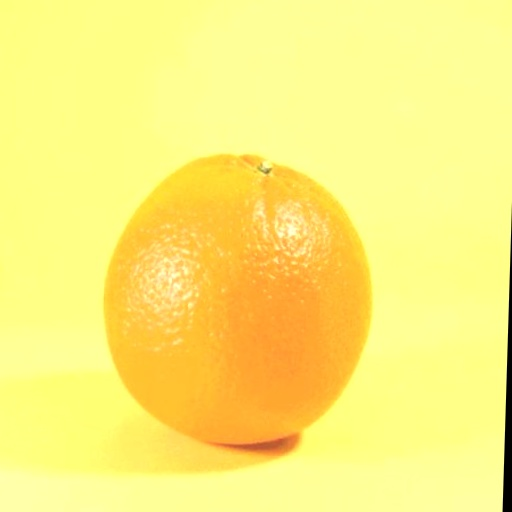fruit: (104, 154, 371, 443)
